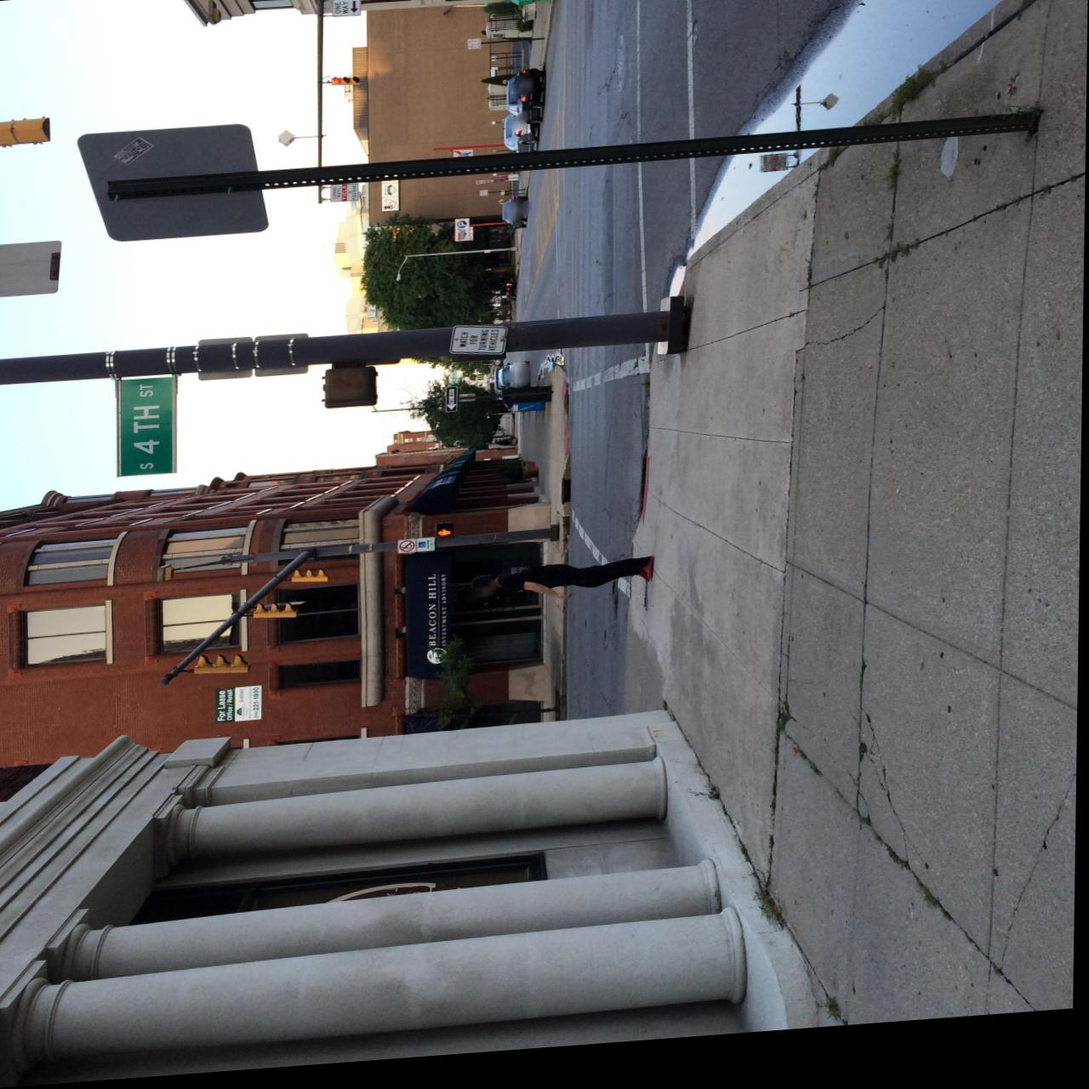pedestrian: (468, 562, 656, 616)
